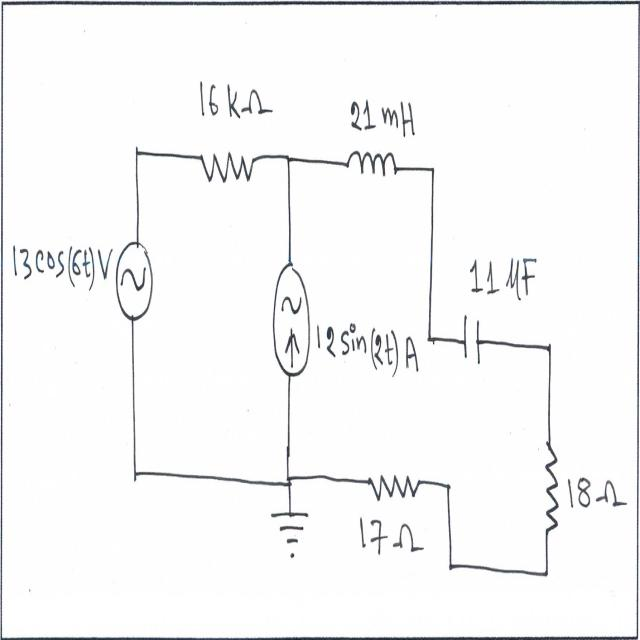ac_current: (115, 221, 156, 332)
capacitor: (460, 306, 490, 367)
current_source: (269, 257, 314, 384)
ground: (270, 499, 314, 568)
inductor: (343, 141, 401, 194)
resistor: (365, 457, 425, 515), (197, 137, 258, 192), (539, 431, 563, 547)
